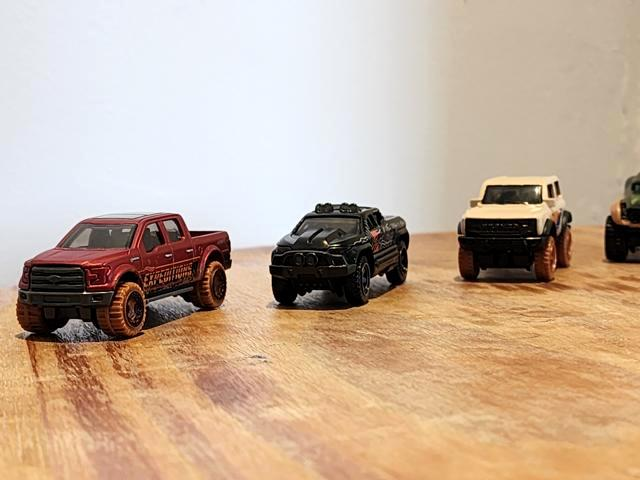toy-car: (16, 212, 233, 339), (269, 202, 410, 307), (458, 176, 573, 282), (604, 173, 640, 261)
